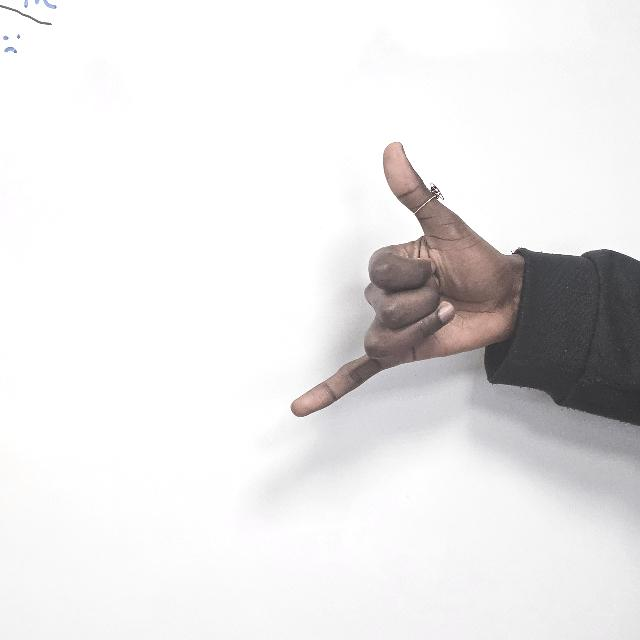Direita: (282, 137, 516, 421)
